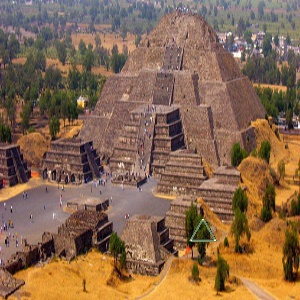triangle: (187, 217, 218, 243)
